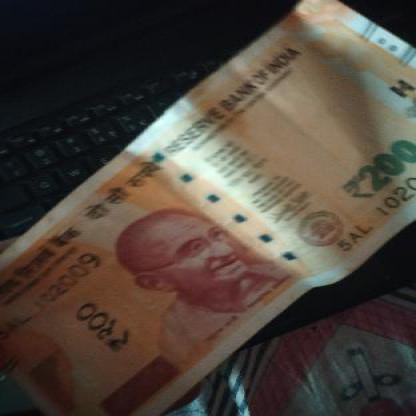New200Front: (0, 14, 415, 403)
